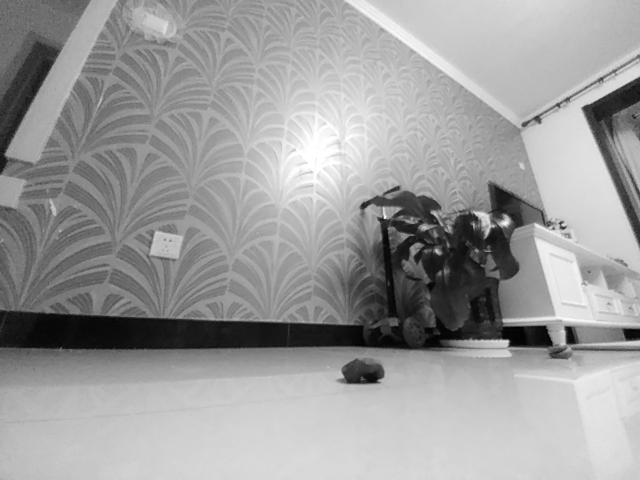pet feces: (342, 356, 387, 382)
